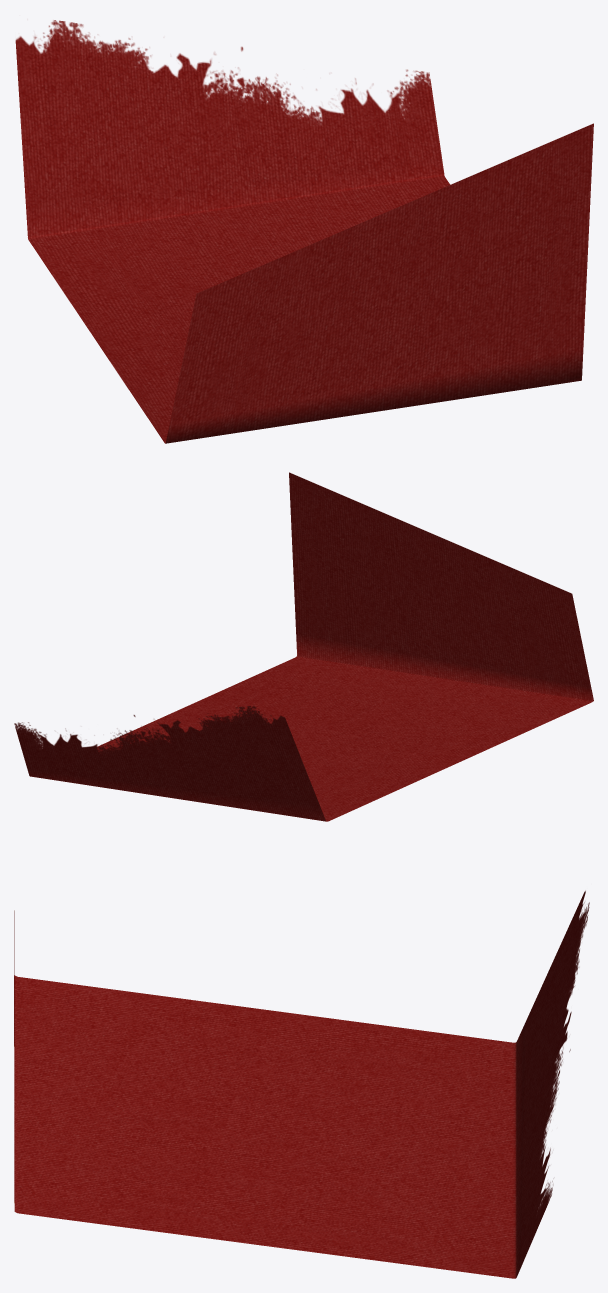
File: clothb.glb
3 views of the same model, one above another, from view 1: azimuth 30°, elevation 25°; view 2: azimuth 150°, elevation 25°; view 3: azimuth 270°, elevation 25° (orthographic). The views are drawn at different scales.
Parts seen in each view (by area): view 1: Cloth; view 2: Cloth; view 3: Cloth.
Boxes of the visible parts, x1=… form: Cloth: x1=15, y1=20, x2=593, y2=443; Cloth: x1=14, y1=472, x2=593, y2=821; Cloth: x1=14, y1=890, x2=589, y2=1278.
Bounding box in the file's own units: 8.39 × 3.95 × 8.
Materials: 1 (1 with a texture image).
